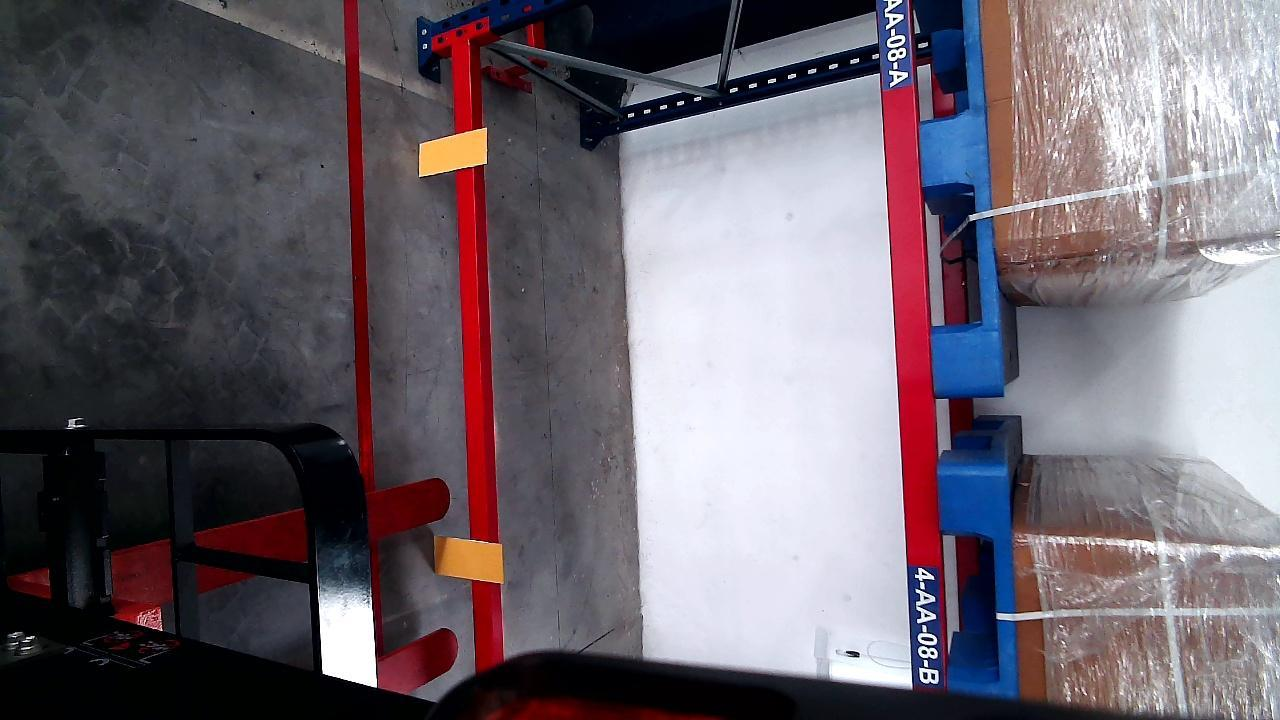red_line: (345, 7, 375, 477)
